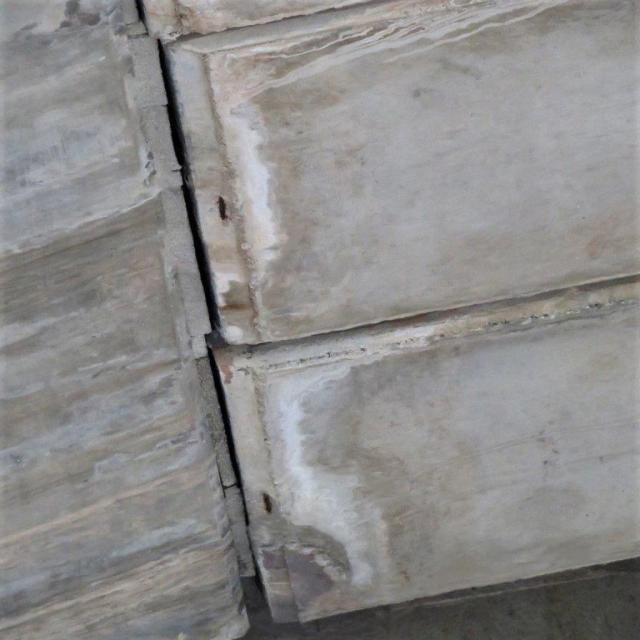Rebar: (213, 194, 239, 227), (260, 492, 279, 517)
